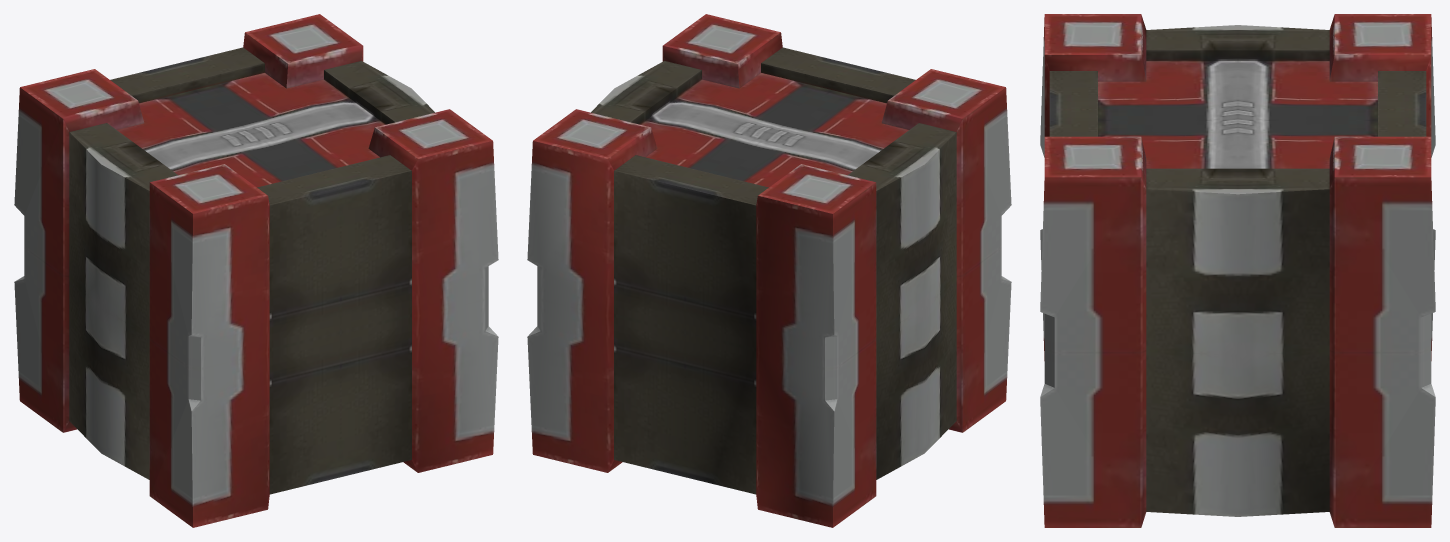
File: Part - box5-Db8OtXEs.glb
3 renders of one model, left to right at view 1: azimuth 30°, elevation 25°; view 2: azimuth 150°, elevation 25°; view 3: azimuth 270°, elevation 25°, orthographic. The views are drawn at different scales.
Visible parts, largest first — view 1: box5; view 2: box5; view 3: box5.
Part boxes in pixels (x1,y1,x2,y2): box5: (14,14,498,527); box5: (527,14,1011,527); box5: (1040,14,1435,527).
Bounding box in the file's own units: 1.04 × 1 × 1.02.
Materials: 1 (1 with a texture image).
